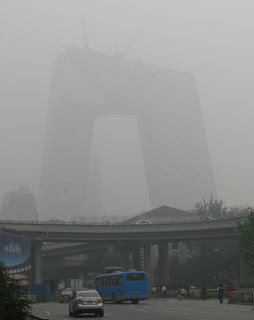bus: (94, 268, 148, 303)
car: (68, 291, 103, 317), (59, 288, 74, 300)
